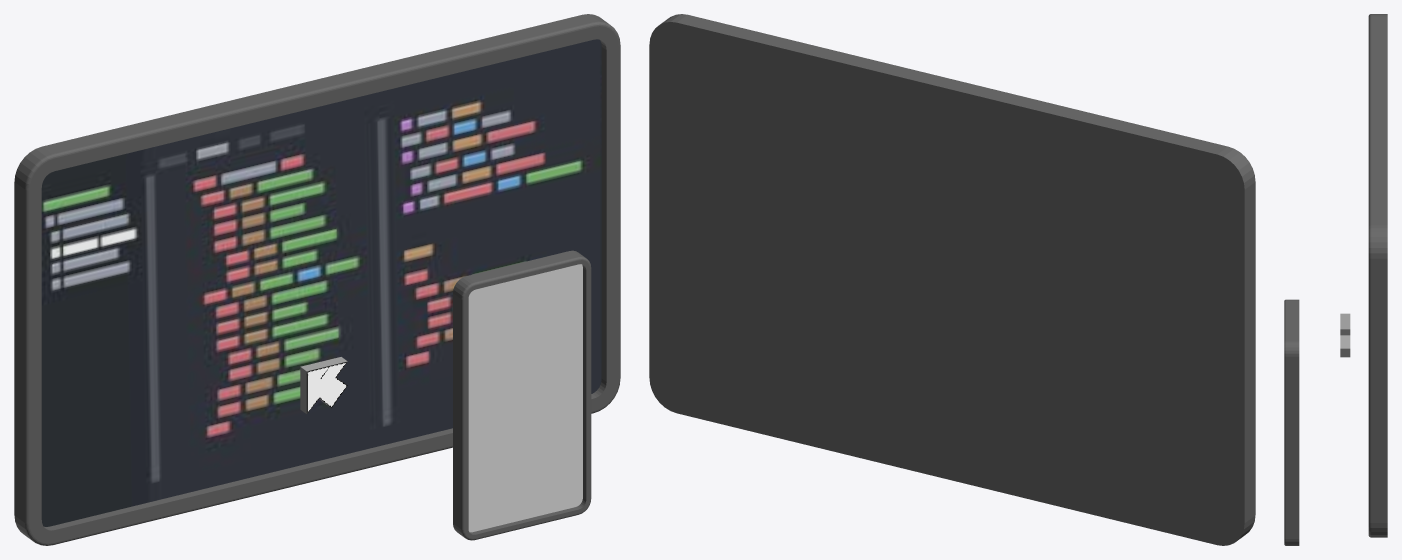
The model's file is allDev.glb.
3 views of the same model, side by side, from view 1: azimuth 30°, elevation 25°; view 2: azimuth 150°, elevation 25°; view 3: azimuth 270°, elevation 25° (orthographic). The views are drawn at different scales.
Visible parts, largest first — view 1: screen, phone, cursor; view 2: screen; view 3: screen, phone, cursor.
Part boxes in pixels (box(x1,y1,x2,y2)): screen: box(14, 14, 620, 545); phone: box(453, 250, 591, 540); cursor: box(300, 357, 347, 413); screen: box(649, 14, 1255, 545); screen: box(1368, 14, 1387, 537); phone: box(1284, 299, 1299, 545); cursor: box(1340, 313, 1350, 357).
Size of the model in its own units: 4.84 by 3.39 by 0.9198.
5 materials, 2 textured.
